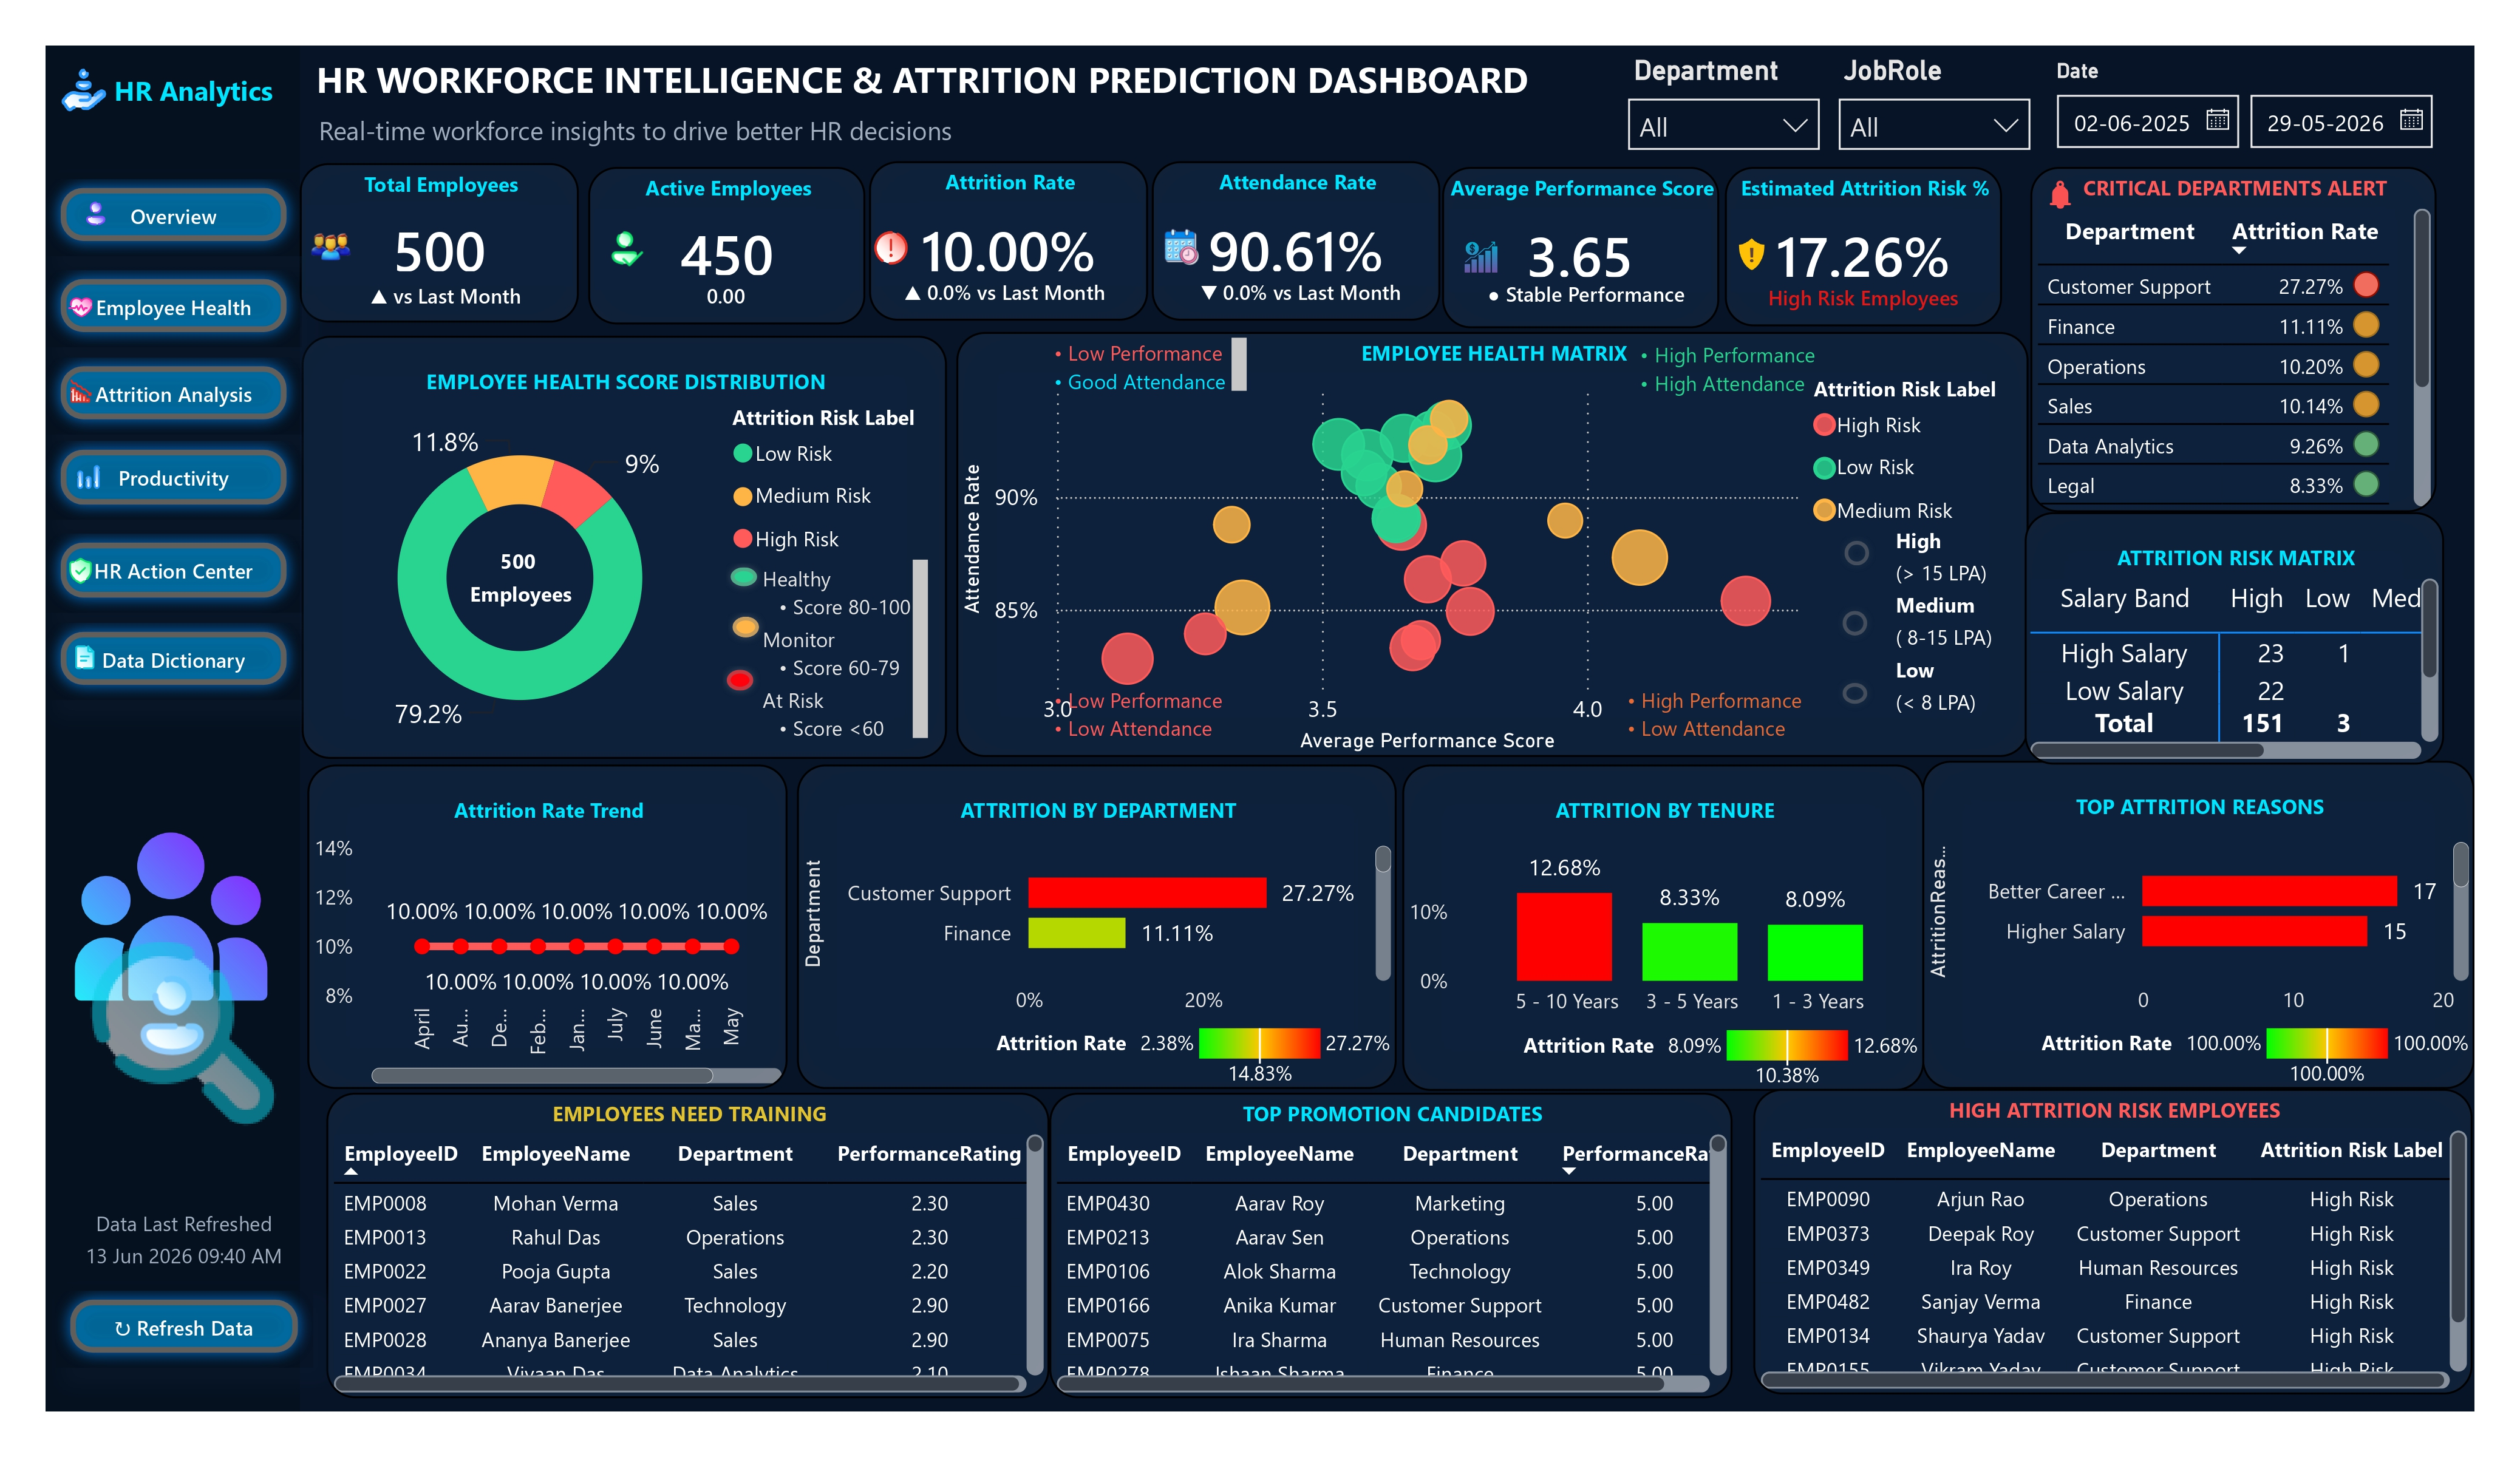

The page's visual inventory and layout, read from the dashboard file:
{"tool":"powerbi","page":{"name":"Executive Dashboard","canvas":[1280,720],"ordinal":0},"visuals":[{"type":"shape","box":[0,0,134,720],"z":0},{"type":"cardVisual","title":"Total Employees","fields":{"Data":["Employee KPI Measures.Total Employees"]},"box":[134,62.4,147,84],"z":0,"group":"g1"},{"type":"scatterChart","title":"EMPLOYEE HEALTH MATRIX","fields":{"X":["Performance Measures.Average Performance Score"],"Y":["Attendance Measures.Attendance Rate"],"Size":["Salary & Demographic Measures.Average Salary"],"Series":["employees.Attrition Risk Label"],"Category":["employees.DepartmentID"]},"box":[480,151.2,564.8,223.6],"z":0,"group":"g2"},{"type":"textbox","box":[119.3,0,685.6,38.2],"z":1000},{"type":"cardVisual","title":"Active Employees","fields":{"Data":["Employee KPI Measures.Active Employees"]},"box":[285.6,63.5,146.2,83.8],"z":1000,"group":"g1"},{"type":"textbox","box":[518.2,331.7,124.5,40],"z":1000,"group":"g2"},{"type":"textbox","box":[139.4,31.3,354.5,32.3],"z":2000},{"type":"cardVisual","title":"Attrition Rate","fields":{"Data":["Employee KPI Measures.Attrition Rate"]},"box":[434,61,147.1,84.3],"z":2000,"group":"g1"},{"type":"textbox","box":[518.2,149,120,39.1],"z":2000,"group":"g2"},{"type":"group","id":"g1","title":"Group 1","box":[134,61,897.1,87.8],"z":3000},{"type":"cardVisual","title":"Attendance Rate","fields":{"Data":["Attendance Measures.Attendance Rate"]},"box":[582.6,61,152.7,84.3],"z":3000,"group":"g1"},{"type":"textbox","box":[827.3,149.9,121.8,40],"z":3000,"group":"g2"},{"type":"tableEx","title":"CRITICAL DEPARTMENTS ALERT","fields":{"Values":["departments.Department","Employee KPI Measures.Attrition Rate"]},"box":[1046,64,214,182],"z":4000},{"type":"cardVisual","title":"Average Performance Score","fields":{"Data":["Performance Measures.Average Performance Score"]},"box":[736.2,64.3,145.6,84.4],"z":4000,"group":"g1"},{"type":"donutChart","title":"EMPLOYEE HEALTH SCORE DISTRIBUTION","fields":{"Category":["employees.Attrition Risk Label"],"Y":["Employee KPI Measures.Total Employees"]},"box":[135,152.5,340,223.3],"z":4000,"group":"g3"},{"type":"textbox","box":[820,331.7,121.8,41.8],"z":4000,"group":"g2"},{"type":"clusteredBarChart","title":"ATTRITION BY DEPARTMENT","fields":{"Y":["Employee KPI Measures.Attrition Rate"],"Category":["departments.Department"]},"box":[396.5,378.6,316.2,171.2],"z":4000,"group":"g4"},{"type":"clusteredColumnChart","title":"ATTRITION BY TENURE","fields":{"Y":["Employee KPI Measures.Attrition Rate"],"Category":["employees.Tenure Band"]},"box":[714.6,378.6,275.2,171.8],"z":4000,"group":"g5"},{"type":"cardVisual","title":"Estimated Attrition Risk %","fields":{"Data":["Unique Dashboard Measures.Estimated Attrition Risk %"]},"box":[884.7,63.9,146.4,84.3],"z":5000,"group":"g1"},{"type":"textbox","box":[930,246.3,108.2,122.7],"z":5000,"group":"g2"},{"type":"lineChart","title":"Attrition Rate Trend","fields":{"Category":["DateTable.Month"],"Y":["Employee KPI Measures.Attrition Rate"]},"box":[138.4,378.6,252.9,171.8],"z":5000},{"type":"group","id":"g2","title":"Group 2","box":[480,149,564.8,225.9],"z":6000},{"type":"shape","box":[943.8,257.1,21.2,21.2],"z":6000,"group":"g2"},{"type":"textbox","box":[373,265.7,96.7,104.7],"z":7000,"group":"g3"},{"type":"shape","box":[942.5,294,21.2,20.6],"z":7000,"group":"g2"},{"type":"clusteredBarChart","title":"TOP ATTRITION REASONS","fields":{"Category":["attrition_reasons.AttritionReason"],"Y":["Employee KPI Measures.Attrition Count"]},"box":[989.4,377,291.1,173.4],"z":7000},{"type":"group","id":"g3","title":"Group 3","box":[135,152.5,340,223.3],"z":8000},{"type":"shape","box":[357.3,270.1,22.1,18.8],"z":8000,"group":"g3"},{"type":"shape","box":[942.5,331.5,21.2,19.4],"z":8000,"group":"g2"},{"type":"image","box":[293.6,96.4,22.1,20.7],"z":9000},{"type":"textbox","box":[193.3,256.2,114.2,49.2],"z":9000,"group":"g3"},{"type":"image","box":[139.3,95,21.4,20.7],"z":10000},{"type":"shape","box":[357.8,296.9,22.1,18.2],"z":10000,"group":"g3"},{"type":"image","box":[434.3,96.4,21.4,20.7],"z":11000},{"type":"shape","box":[355.4,324.9,22.1,18.8],"z":11000,"group":"g3"},{"type":"image","box":[587.9,95.7,21.4,20.7],"z":12000},{"type":"image","box":[742.9,102.9,26.4,17.1],"z":13000},{"type":"image","box":[887.9,100,21.4,20],"z":14000},{"type":"image","box":[1054.2,70,15.2,16.1],"z":15000},{"type":"group","id":"g4","title":"Group 3","box":[396.5,378.6,316.2,171.2],"z":16000},{"type":"group","id":"g5","title":"Group 3","box":[714.6,378.6,275.2,171.8],"z":17000},{"type":"slicer","fields":{"Values":["departments.Department"]},"box":[823.9,0,120.9,60.4],"z":18000},{"type":"slicer","fields":{"Values":["employees.JobRole"]},"box":[935.3,0,120.9,60.4],"z":19000},{"type":"slicer","fields":{"Values":["DateTable.Date"]},"box":[1046.7,2.2,227.8,60],"z":20000},{"type":"pivotTable","title":"ATTRITION RISK MATRIX","fields":{"Rows":["employees.Salary Band"],"Values":["Employee KPI Measures.Total Employees"],"Columns":["performance.Performance Band"]},"box":[1042.5,246.2,221.2,132.5],"z":21000},{"type":"tableEx","title":"EMPLOYEES NEED TRAINING","fields":{"Values":["performance.EmployeeID","employees.EmployeeName","departments.Department","performance.PerformanceRating"]},"box":[148,552,381,161],"z":22000},{"type":"tableEx","title":"TOP PROMOTION CANDIDATES","fields":{"Values":["performance.EmployeeID","employees.EmployeeName","departments.Department","performance.PerformanceRating"]},"box":[529,552,360,161],"z":23000},{"type":"tableEx","title":"HIGH ATTRITION RISK EMPLOYEES","fields":{"Values":["performance.EmployeeID","employees.EmployeeName","departments.Department","employees.Attrition Risk Label"]},"box":[900,550,379,161],"z":24000},{"type":"textbox","box":[29.4,8.9,97.2,30],"z":25000},{"type":"actionButton","box":[0,66.8,135.2,44.5],"z":26000},{"type":"actionButton","box":[0,114.5,135.2,44.5],"z":27000},{"type":"actionButton","box":[0,160.7,135.2,44.5],"z":28000},{"type":"actionButton","box":[0,205.2,135.2,44.5],"z":29000},{"type":"actionButton","box":[0,254.5,135.2,44.5],"z":30000},{"type":"actionButton","box":[0,300.6,135.2,44.5],"z":31000},{"type":"image","box":[12.8,396.8,106.7,124.4],"z":32000},{"type":"image","box":[42.2,480,50,62.2],"z":33000},{"type":"image","box":[11.1,457.8,123.3,125.6],"z":34000},{"type":"image","box":[19,81.4,14.8,14.8],"z":35000},{"type":"image","box":[11.4,130.9,15.5,14.5],"z":36000},{"type":"image","box":[11.4,174.8,14.8,15.2],"z":37000},{"type":"image","box":[14.3,220.5,15.2,14.8],"z":38000},{"type":"image","box":[11,269,15.2,14.8],"z":39000},{"type":"image","box":[12.9,314.3,14.8,15.2],"z":40000},{"type":"image","box":[7.2,9.4,25.6,28.9],"z":42000},{"type":"actionButton","box":[5.3,652.7,135.3,44.7],"z":43000},{"type":"textbox","box":[11.4,606.4,123.6,50.7],"z":44000},{"type":"cardVisual","fields":{"Data":["KPI Trend Measures.Hire Trend Text"]},"box":[140.8,110.8,140,46.2],"z":45000},{"type":"cardVisual","fields":{"Data":["KPI Trend Measures.Employee Growth %"]},"box":[286.9,110.8,143.1,46.9],"z":46000},{"type":"cardVisual","fields":{"Data":["KPI Trend Measures.Attrition Trend Text"]},"box":[433.8,109.2,143.8,46.9],"z":47000},{"type":"cardVisual","fields":{"Data":["KPI Trend Measures.Attendance Trend Text"]},"box":[587.7,109.2,147.7,46.9],"z":48000},{"type":"cardVisual","fields":{"Data":["KPI Trend Measures.Performance Trend Text"]},"box":[743.1,110,138.5,46.9],"z":49000},{"type":"cardVisual","fields":{"Data":["KPI Trend Measures.Risk Trend Text"]},"box":[888.3,111.1,140,47.8],"z":50000}]}

Visuals, with their boxes on the page's 1280x720 design canvas (x1, y1, x2, y2). These are canvas units, not pixel positions in the 2520x1457 screenshot, which may show the page scaled, cropped or inside an application window:
shape: {"x1": 0, "y1": 0, "x2": 134, "y2": 720}
"Total Employees" cardVisual: {"x1": 134, "y1": 62, "x2": 281, "y2": 146}
"EMPLOYEE HEALTH MATRIX" scatterChart: {"x1": 480, "y1": 151, "x2": 1045, "y2": 375}
textbox: {"x1": 119, "y1": 0, "x2": 805, "y2": 38}
"Active Employees" cardVisual: {"x1": 286, "y1": 64, "x2": 432, "y2": 147}
textbox: {"x1": 518, "y1": 332, "x2": 643, "y2": 372}
textbox: {"x1": 139, "y1": 31, "x2": 494, "y2": 64}
"Attrition Rate" cardVisual: {"x1": 434, "y1": 61, "x2": 581, "y2": 145}
textbox: {"x1": 518, "y1": 149, "x2": 638, "y2": 188}
"Group 1" group: {"x1": 134, "y1": 61, "x2": 1031, "y2": 149}
"Attendance Rate" cardVisual: {"x1": 583, "y1": 61, "x2": 735, "y2": 145}
textbox: {"x1": 827, "y1": 150, "x2": 949, "y2": 190}
"CRITICAL DEPARTMENTS ALERT" tableEx: {"x1": 1046, "y1": 64, "x2": 1260, "y2": 246}
"Average Performance Score" cardVisual: {"x1": 736, "y1": 64, "x2": 882, "y2": 149}
"EMPLOYEE HEALTH SCORE DISTRIBUTION" donutChart: {"x1": 135, "y1": 152, "x2": 475, "y2": 376}
textbox: {"x1": 820, "y1": 332, "x2": 942, "y2": 374}
"ATTRITION BY DEPARTMENT" clusteredBarChart: {"x1": 396, "y1": 379, "x2": 713, "y2": 550}
"ATTRITION BY TENURE" clusteredColumnChart: {"x1": 715, "y1": 379, "x2": 990, "y2": 550}
"Estimated Attrition Risk %" cardVisual: {"x1": 885, "y1": 64, "x2": 1031, "y2": 148}
textbox: {"x1": 930, "y1": 246, "x2": 1038, "y2": 369}
"Attrition Rate Trend" lineChart: {"x1": 138, "y1": 379, "x2": 391, "y2": 550}
"Group 2" group: {"x1": 480, "y1": 149, "x2": 1045, "y2": 375}
shape: {"x1": 944, "y1": 257, "x2": 965, "y2": 278}
textbox: {"x1": 373, "y1": 266, "x2": 470, "y2": 370}
shape: {"x1": 942, "y1": 294, "x2": 964, "y2": 315}
"TOP ATTRITION REASONS" clusteredBarChart: {"x1": 989, "y1": 377, "x2": 1280, "y2": 550}
"Group 3" group: {"x1": 135, "y1": 152, "x2": 475, "y2": 376}
shape: {"x1": 357, "y1": 270, "x2": 379, "y2": 289}
shape: {"x1": 942, "y1": 332, "x2": 964, "y2": 351}
image: {"x1": 294, "y1": 96, "x2": 316, "y2": 117}
textbox: {"x1": 193, "y1": 256, "x2": 308, "y2": 305}
image: {"x1": 139, "y1": 95, "x2": 161, "y2": 116}
shape: {"x1": 358, "y1": 297, "x2": 380, "y2": 315}
image: {"x1": 434, "y1": 96, "x2": 456, "y2": 117}
shape: {"x1": 355, "y1": 325, "x2": 378, "y2": 344}
image: {"x1": 588, "y1": 96, "x2": 609, "y2": 116}
image: {"x1": 743, "y1": 103, "x2": 769, "y2": 120}
image: {"x1": 888, "y1": 100, "x2": 909, "y2": 120}
image: {"x1": 1054, "y1": 70, "x2": 1069, "y2": 86}
"Group 3" group: {"x1": 396, "y1": 379, "x2": 713, "y2": 550}
"Group 3" group: {"x1": 715, "y1": 379, "x2": 990, "y2": 550}
slicer - departments.Department: {"x1": 824, "y1": 0, "x2": 945, "y2": 60}
slicer - employees.JobRole: {"x1": 935, "y1": 0, "x2": 1056, "y2": 60}
slicer - DateTable.Date: {"x1": 1047, "y1": 2, "x2": 1274, "y2": 62}
"ATTRITION RISK MATRIX" pivotTable: {"x1": 1042, "y1": 246, "x2": 1264, "y2": 379}
"EMPLOYEES NEED TRAINING" tableEx: {"x1": 148, "y1": 552, "x2": 529, "y2": 713}
"TOP PROMOTION CANDIDATES" tableEx: {"x1": 529, "y1": 552, "x2": 889, "y2": 713}
"HIGH ATTRITION RISK EMPLOYEES" tableEx: {"x1": 900, "y1": 550, "x2": 1279, "y2": 711}
textbox: {"x1": 29, "y1": 9, "x2": 127, "y2": 39}
actionButton: {"x1": 0, "y1": 67, "x2": 135, "y2": 111}
actionButton: {"x1": 0, "y1": 114, "x2": 135, "y2": 159}
actionButton: {"x1": 0, "y1": 161, "x2": 135, "y2": 205}
actionButton: {"x1": 0, "y1": 205, "x2": 135, "y2": 250}
actionButton: {"x1": 0, "y1": 254, "x2": 135, "y2": 299}
actionButton: {"x1": 0, "y1": 301, "x2": 135, "y2": 345}
image: {"x1": 13, "y1": 397, "x2": 120, "y2": 521}
image: {"x1": 42, "y1": 480, "x2": 92, "y2": 542}
image: {"x1": 11, "y1": 458, "x2": 134, "y2": 583}
image: {"x1": 19, "y1": 81, "x2": 34, "y2": 96}
image: {"x1": 11, "y1": 131, "x2": 27, "y2": 145}
image: {"x1": 11, "y1": 175, "x2": 26, "y2": 190}
image: {"x1": 14, "y1": 220, "x2": 30, "y2": 235}
image: {"x1": 11, "y1": 269, "x2": 26, "y2": 284}
image: {"x1": 13, "y1": 314, "x2": 28, "y2": 330}
image: {"x1": 7, "y1": 9, "x2": 33, "y2": 38}
actionButton: {"x1": 5, "y1": 653, "x2": 141, "y2": 697}
textbox: {"x1": 11, "y1": 606, "x2": 135, "y2": 657}
cardVisual - KPI Trend Measures.Hire Trend Text: {"x1": 141, "y1": 111, "x2": 281, "y2": 157}
cardVisual - KPI Trend Measures.Employee Growth %: {"x1": 287, "y1": 111, "x2": 430, "y2": 158}
cardVisual - KPI Trend Measures.Attrition Trend Text: {"x1": 434, "y1": 109, "x2": 578, "y2": 156}
cardVisual - KPI Trend Measures.Attendance Trend Text: {"x1": 588, "y1": 109, "x2": 735, "y2": 156}
cardVisual - KPI Trend Measures.Performance Trend Text: {"x1": 743, "y1": 110, "x2": 882, "y2": 157}
cardVisual - KPI Trend Measures.Risk Trend Text: {"x1": 888, "y1": 111, "x2": 1028, "y2": 159}
